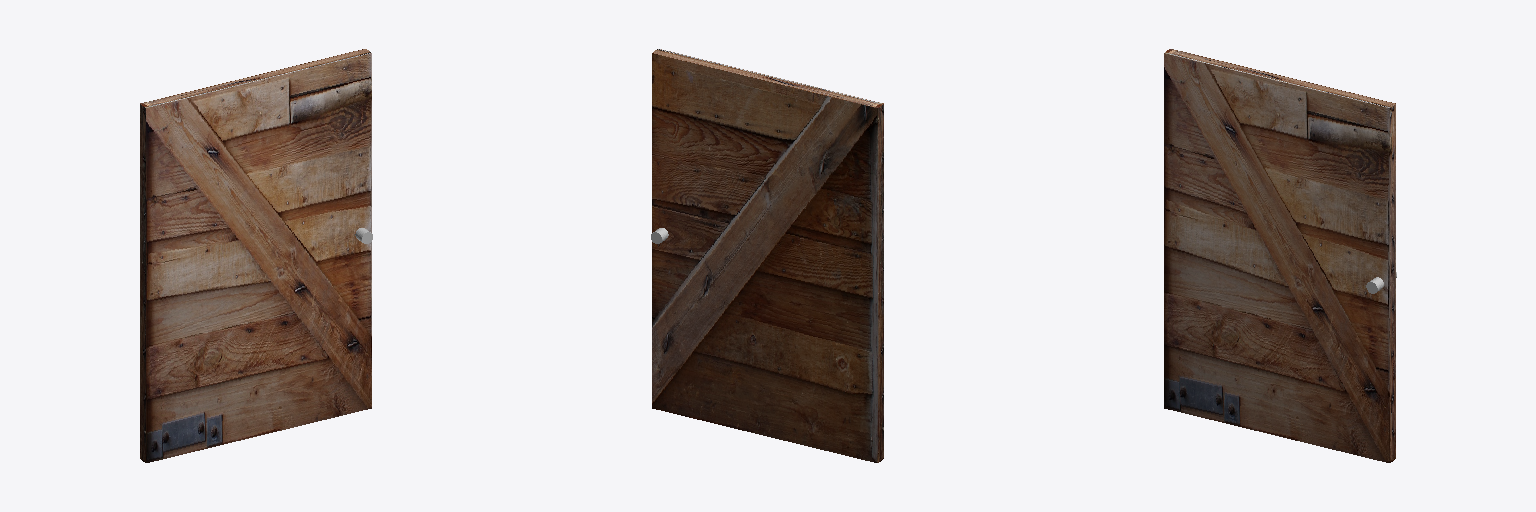
3 renders of one model, left to right at view 1: azimuth 30°, elevation 25°; view 2: azimuth 150°, elevation 25°; view 3: azimuth 330°, elevation 25°, orthographic.
Visible parts, largest first — view 1: door_Cube; view 2: door_Cube; view 3: door_Cube.
Part boxes in pixels (bbox=[...]): door_Cube: bbox=[140, 49, 371, 462]; door_Cube: bbox=[652, 49, 883, 462]; door_Cube: bbox=[1164, 49, 1395, 462].
Size of the model in its own units: 4 by 6 by 0.6.
2 materials, 1 textured.